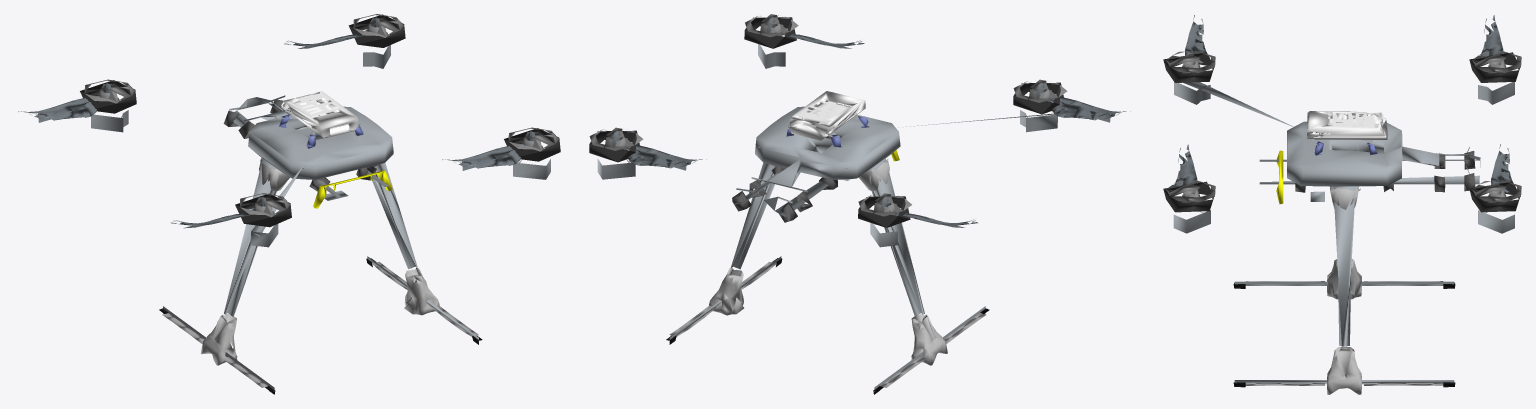
Rendered from x500-compatible.glb.
3 views of the same model, side by side, from view 1: azimuth 30°, elevation 25°; view 2: azimuth 150°, elevation 25°; view 3: azimuth 270°, elevation 25° (orthographic).
Visible parts, largest first — view 1: base_link_visual_2_CarbonFiber-mesh, base_link_visual_7_LandingPlastic-mesh, base_link_visual_5_FMUK66-mesh, base_link_visual_0_LandingFoam-mesh, rotor_0_visual_motor_bell_0_Body1-mesh, rotor_1_visual_motor_top_0_Body1-mesh, rotor_2_visual_motor_top_0_Body1-mesh, rotor_3_visual_motor_top_0_Body1-mesh, base_link_visual_4_RailsRubber-mesh, blade_front-left_1_damaged_skin, blade_rear-right_1_damaged_skin, base_link_visual_6_RailsAntennaHolder-mesh (+4 smaller); view 2: base_link_visual_2_CarbonFiber-mesh, base_link_visual_7_LandingPlastic-mesh, base_link_visual_5_FMUK66-mesh, base_link_visual_4_RailsRubber-mesh, base_link_visual_0_LandingFoam-mesh, rotor_3_visual_motor_top_0_Body1-mesh, rotor_2_visual_motor_top_0_Body1-mesh, rotor_0_visual_motor_bell_0_Body1-mesh, rotor_1_visual_motor_top_0_Body1-mesh, blade_rear-left_1_damaged_skin, blade_front-right_1_damaged_skin; view 3: base_link_visual_2_CarbonFiber-mesh, base_link_visual_7_LandingPlastic-mesh, base_link_visual_5_FMUK66-mesh, base_link_visual_0_LandingFoam-mesh, base_link_visual_4_RailsRubber-mesh, rotor_3_visual_motor_top_0_Body1-mesh, rotor_0_visual_motor_bell_0_Body1-mesh, rotor_2_visual_motor_top_0_Body1-mesh, rotor_1_visual_motor_top_0_Body1-mesh, rotor_0_visual_motor_bell_1_Body2-mesh, rotor_3_visual_motor_top_1_Body2-mesh, rotor_2_visual_motor_top_1_Body2-mesh (+5 smaller).
Part boxes in pixels (bbox=[...]): base_link_visual_2_CarbonFiber-mesh: bbox=[91, 45, 550, 391]; base_link_visual_7_LandingPlastic-mesh: bbox=[201, 158, 439, 365]; base_link_visual_5_FMUK66-mesh: bbox=[280, 91, 358, 138]; base_link_visual_0_LandingFoam-mesh: bbox=[162, 261, 478, 387]; rotor_0_visual_motor_bell_0_Body1-mesh: bbox=[348, 14, 405, 47]; rotor_1_visual_motor_top_0_Body1-mesh: bbox=[235, 193, 291, 227]; rotor_2_visual_motor_top_0_Body1-mesh: bbox=[80, 80, 136, 113]; rotor_3_visual_motor_top_0_Body1-mesh: bbox=[504, 128, 560, 161]; base_link_visual_4_RailsRubber-mesh: bbox=[223, 99, 376, 191]; blade_front-left_1_damaged_skin: bbox=[24, 85, 108, 119]; blade_rear-right_1_damaged_skin: bbox=[448, 133, 532, 167]; base_link_visual_6_RailsAntennaHolder-mesh: bbox=[313, 170, 392, 208]; base_link_visual_2_CarbonFiber-mesh: bbox=[597, 44, 1057, 391]; base_link_visual_7_LandingPlastic-mesh: bbox=[709, 158, 947, 365]; base_link_visual_5_FMUK66-mesh: bbox=[787, 91, 865, 140]; base_link_visual_4_RailsRubber-mesh: bbox=[732, 166, 837, 222]; base_link_visual_0_LandingFoam-mesh: bbox=[669, 262, 986, 387]; rotor_3_visual_motor_top_0_Body1-mesh: bbox=[744, 17, 796, 48]; rotor_2_visual_motor_top_0_Body1-mesh: bbox=[858, 196, 910, 227]; rotor_0_visual_motor_bell_0_Body1-mesh: bbox=[589, 130, 639, 162]; rotor_1_visual_motor_top_0_Body1-mesh: bbox=[1013, 82, 1063, 114]; blade_rear-left_1_damaged_skin: bbox=[1036, 83, 1126, 118]; blade_front-right_1_damaged_skin: bbox=[612, 131, 702, 166]; base_link_visual_2_CarbonFiber-mesh: bbox=[1173, 82, 1514, 384]; base_link_visual_7_LandingPlastic-mesh: bbox=[1327, 186, 1361, 394]; base_link_visual_5_FMUK66-mesh: bbox=[1307, 111, 1387, 139]; base_link_visual_0_LandingFoam-mesh: bbox=[1245, 281, 1443, 385]; base_link_visual_4_RailsRubber-mesh: bbox=[1295, 151, 1475, 192]; rotor_3_visual_motor_top_0_Body1-mesh: bbox=[1163, 181, 1213, 212]; rotor_0_visual_motor_bell_0_Body1-mesh: bbox=[1469, 181, 1519, 212]; rotor_2_visual_motor_top_0_Body1-mesh: bbox=[1469, 52, 1519, 82]; rotor_1_visual_motor_top_0_Body1-mesh: bbox=[1163, 52, 1213, 82]; rotor_0_visual_motor_bell_1_Body2-mesh: bbox=[1472, 180, 1521, 202]; rotor_3_visual_motor_top_1_Body2-mesh: bbox=[1166, 180, 1215, 202]; rotor_2_visual_motor_top_1_Body2-mesh: bbox=[1472, 51, 1521, 72].
Size of the model in its own units: 8.08 by 4.45 by 6.52.
